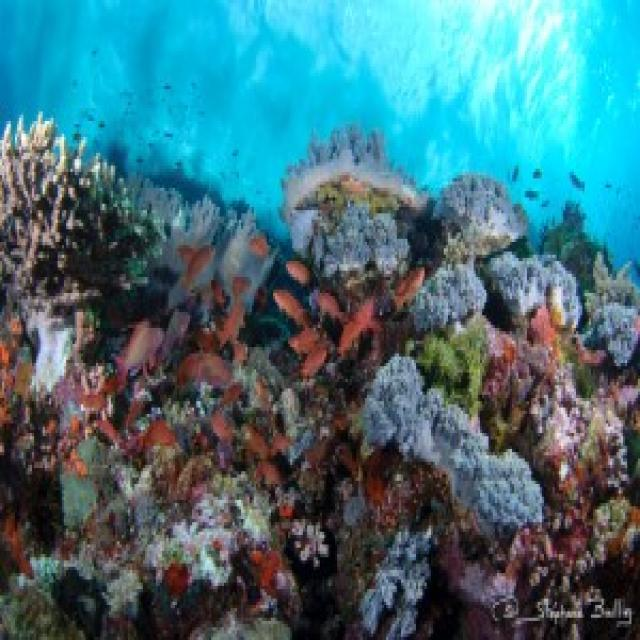Healthy: (487, 303, 639, 638), (362, 354, 543, 533), (5, 116, 157, 323), (285, 125, 428, 275), (362, 530, 432, 635), (408, 319, 487, 412), (487, 256, 581, 323), (436, 173, 526, 240), (411, 265, 485, 329), (586, 307, 637, 364)
